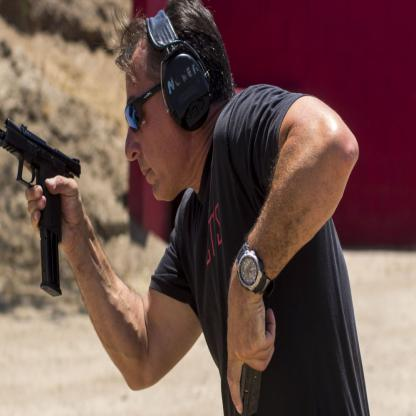gun: (0, 108, 90, 314)
